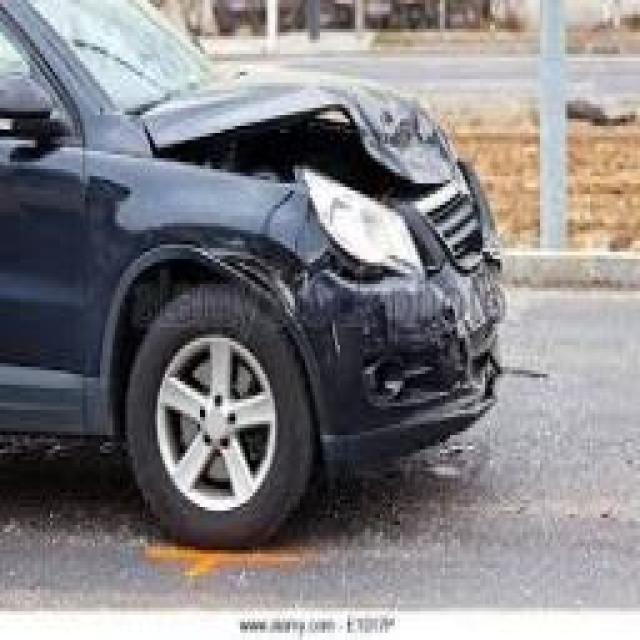replaceable: (249, 249, 514, 417), (325, 68, 470, 188)
